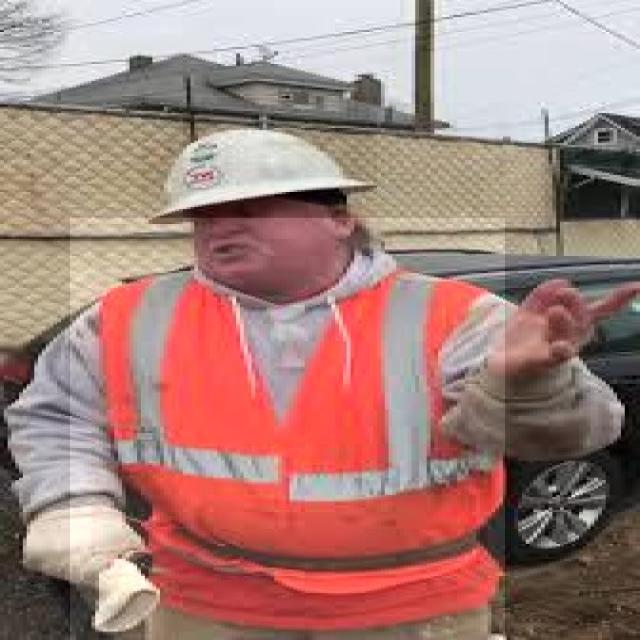Helmet: (142, 97, 377, 250)
Safety Vest: (70, 218, 505, 640)
